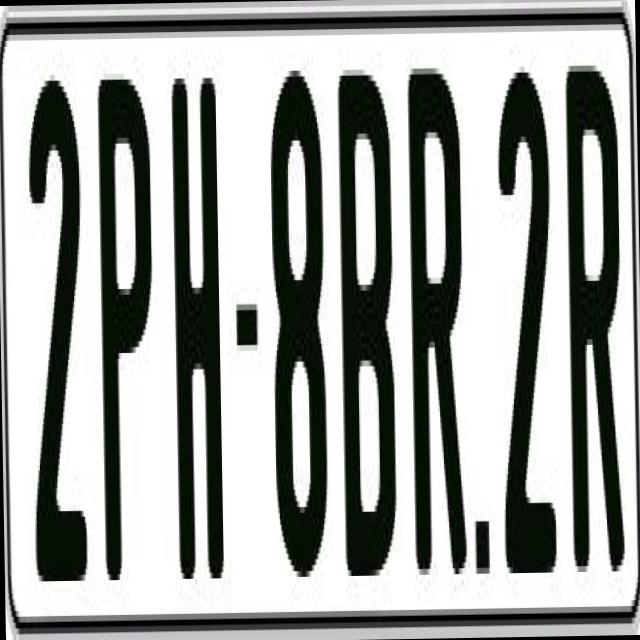2: (26, 79, 94, 586), (497, 60, 558, 567)
8: (264, 70, 334, 612)
B: (336, 68, 402, 570)
H: (169, 71, 229, 584)
P: (94, 67, 152, 603)
R: (564, 53, 626, 577), (408, 62, 468, 580)
